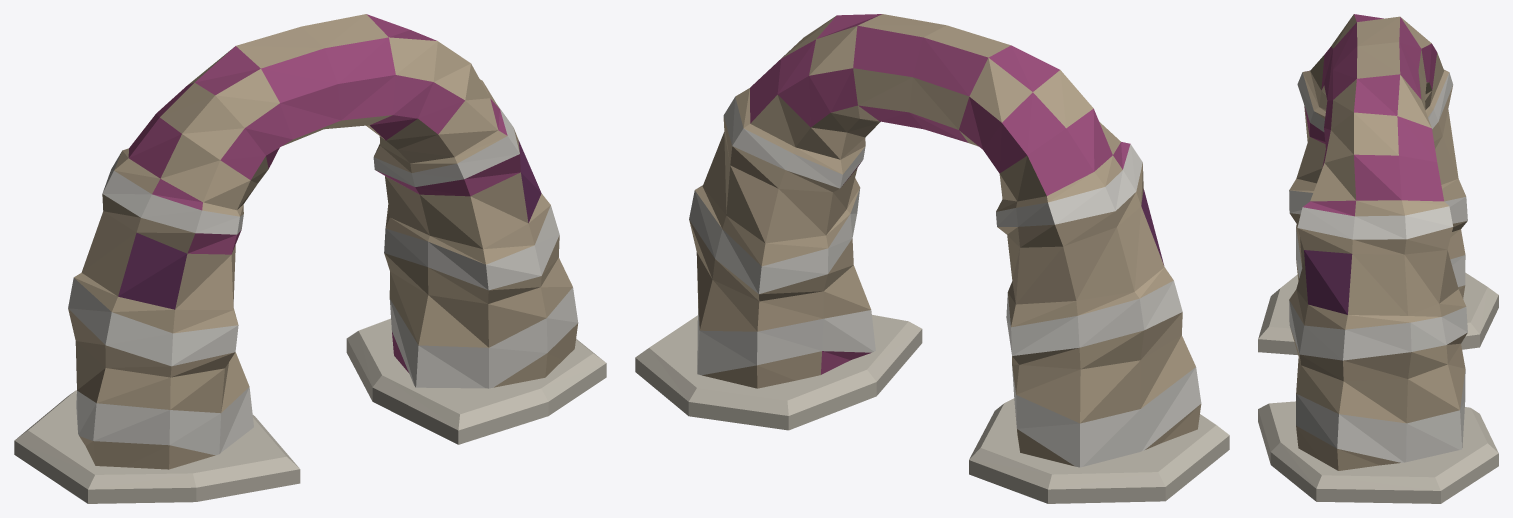
Rendered from aquascape-rock-arch-48bf5e.glb.
The picture shows the model from 3 angles, left to right: view 1: azimuth 30°, elevation 25°; view 2: azimuth 150°, elevation 25°; view 3: azimuth 270°, elevation 25°; orthographic projection. The views are drawn at different scales.
Parts seen in each view (by area): view 1: rock-arch; view 2: rock-arch; view 3: rock-arch.
Part boxes in pixels (box(x1,y1,x2,y2)): rock-arch: box(14, 14, 606, 503); rock-arch: box(635, 14, 1229, 503); rock-arch: box(1258, 14, 1498, 503).
Bounding box in the file's own units: 0.5 × 0.3444 × 0.2177.
